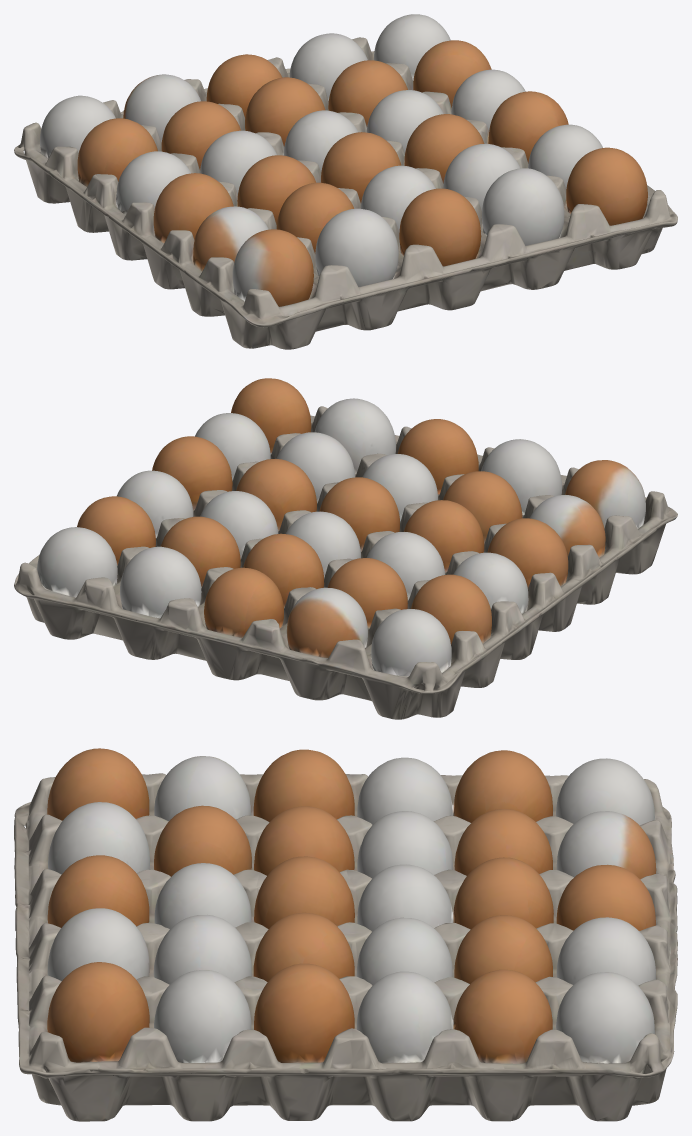
File: bandeja.glb
3 views of the same model, one above another, from view 1: azimuth 30°, elevation 25°; view 2: azimuth 150°, elevation 25°; view 3: azimuth 270°, elevation 25° (orthographic). The views are drawn at different scales.
Visible parts, largest first — view 1: tripo_node_d7d54187-3119-424a-8b52-5249f3458416; view 2: tripo_node_d7d54187-3119-424a-8b52-5249f3458416; view 3: tripo_node_d7d54187-3119-424a-8b52-5249f3458416.
Part boxes in pixels (x1,y1,x2,y2): tripo_node_d7d54187-3119-424a-8b52-5249f3458416: (14,14,677,349); tripo_node_d7d54187-3119-424a-8b52-5249f3458416: (14,378,677,719); tripo_node_d7d54187-3119-424a-8b52-5249f3458416: (14,748,677,1121).
Size of the model in its own units: 0.9947 by 0.2167 by 0.9999.
Materials: 1 (1 with a texture image).
